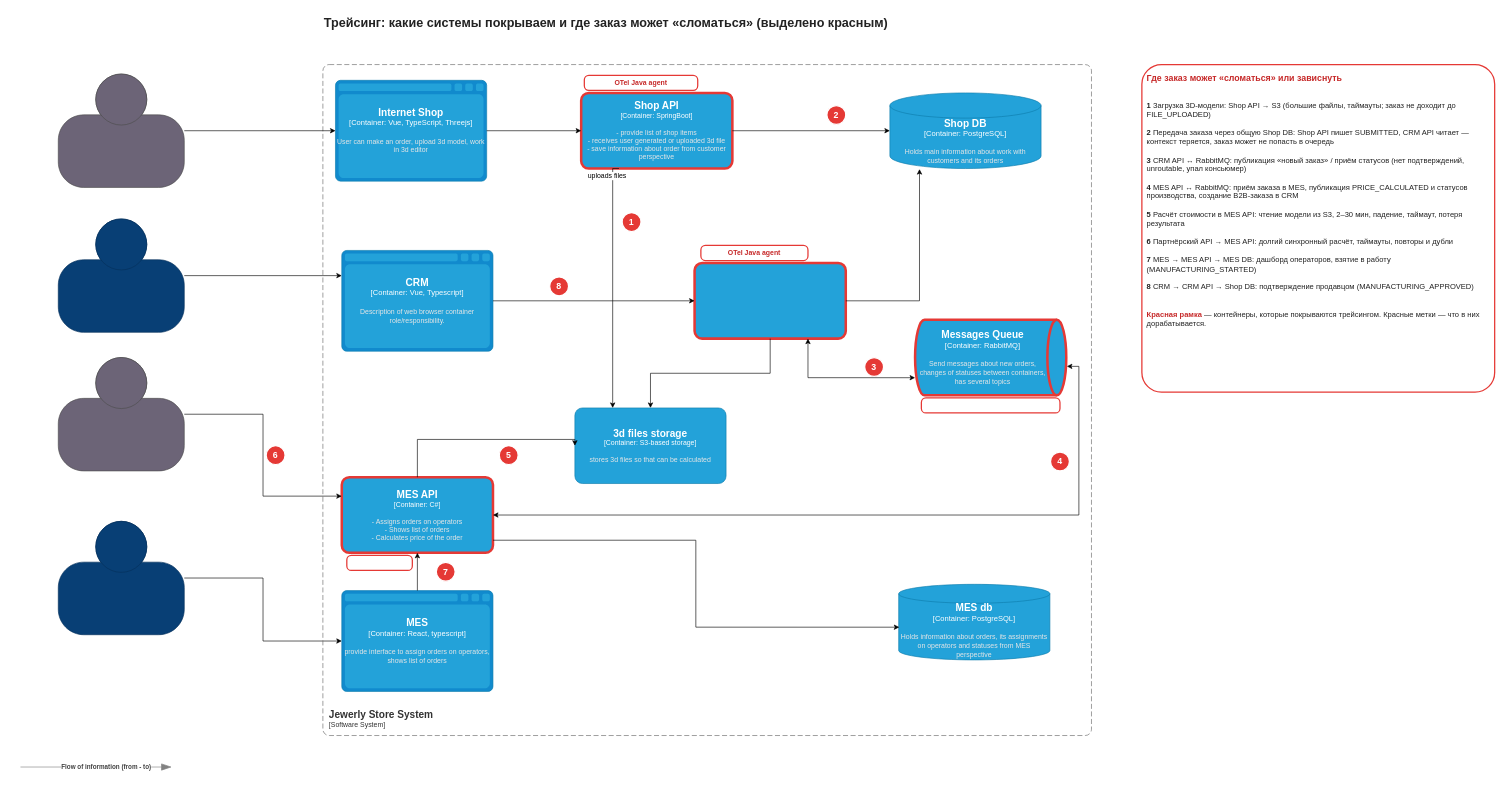
This 1506x788 diagram has some shape labels left out. The shapes that lost their labels are listed below. From the top down, each one's box as (x1, y1, x2, y2) in pixels, then its label:
(58, 73, 184, 187): Customer [Person] Description of external person.
(58, 218, 184, 332): Seller [Person] Operates with order, confirms manufacturing for the user
(693, 261, 847, 340): CRM API [Container: SpringBoot] Description of container role/responsibility.
(58, 357, 184, 471): API user [Person] Description of external person.
(920, 397, 1060, 413): traceparent в headers сообщений
(58, 521, 184, 635): Operator [Person] Takes order in work, manufactures jewerly
(346, 554, 413, 571): OTel .NET SDK
